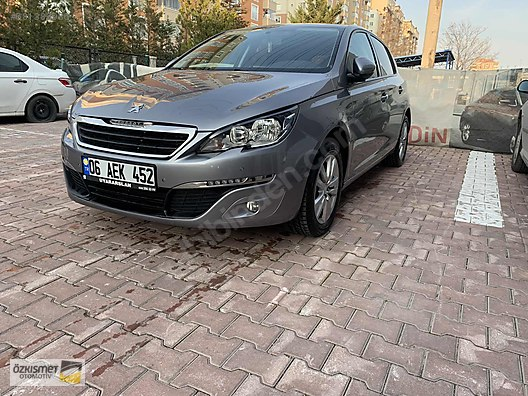peugeot: (55, 21, 410, 241)
